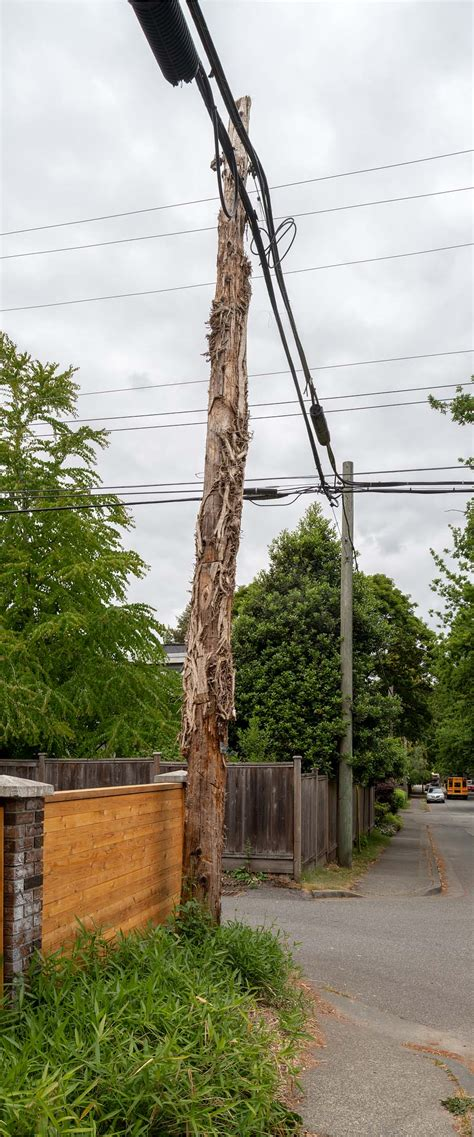pole: (166, 50, 282, 943)
